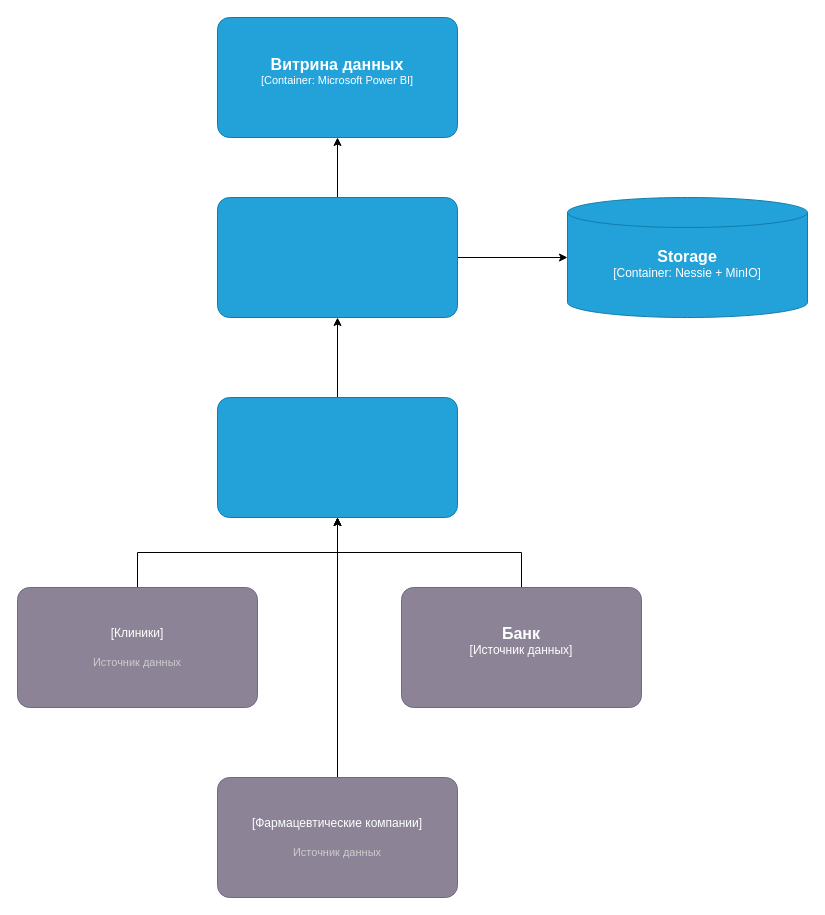
Some shapes in this 825 by 915 pixel diagram are drawn without their labels. Each missing label, with the box of its shape:
Airflow [Container: ]: (216, 396, 458, 518)
Dremio [Container: ] Description of container role/responsibility.: (216, 196, 458, 318)
